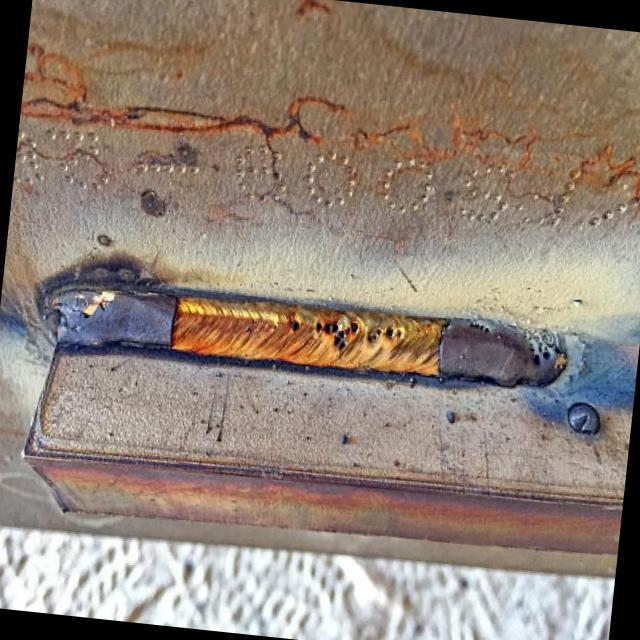defect: (307, 318, 361, 359), (525, 331, 552, 368), (364, 322, 404, 344), (467, 316, 498, 337), (287, 316, 305, 334)
